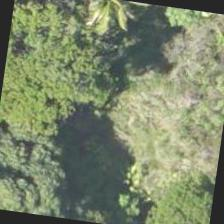Kelapa_Sawit: (61, 0, 159, 62)
